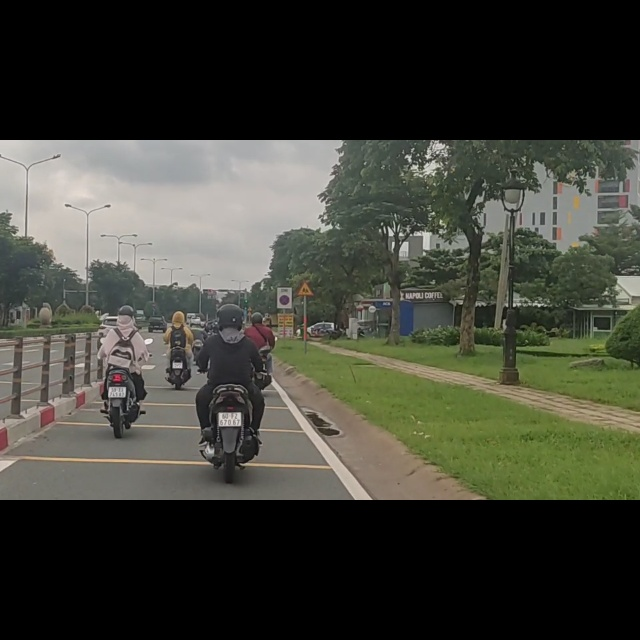bien_nguy_hiem: (297, 250, 315, 279), (279, 275, 290, 293)
